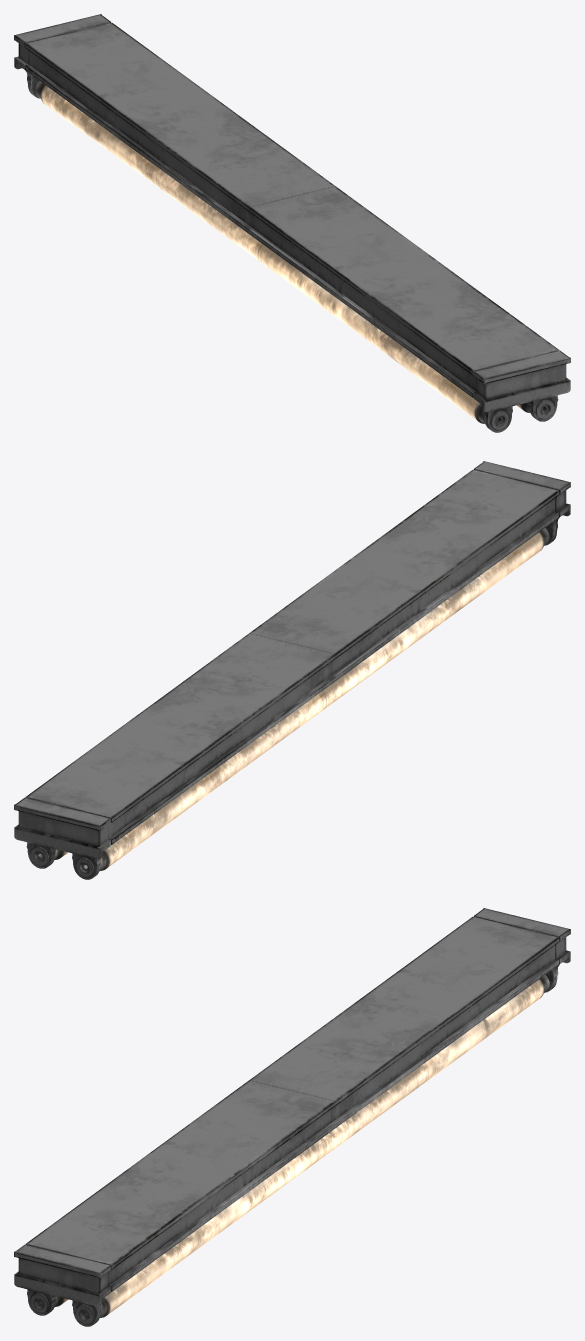
File: weathered_fluorescent_light_-_4096px2.glb
3 renders of one model, top to bottom at view 1: azimuth 30°, elevation 25°; view 2: azimuth 150°, elevation 25°; view 3: azimuth 330°, elevation 25°, orthographic.
Visible parts, largest first — view 1: Fluorescent_Light _Fluorescent_Light_MTL_0; view 2: Fluorescent_Light _Fluorescent_Light_MTL_0; view 3: Fluorescent_Light _Fluorescent_Light_MTL_0.
Part boxes in pixels (bbox=[...]): Fluorescent_Light _Fluorescent_Light_MTL_0: bbox=[14, 14, 570, 432]; Fluorescent_Light _Fluorescent_Light_MTL_0: bbox=[14, 461, 570, 879]; Fluorescent_Light _Fluorescent_Light_MTL_0: bbox=[14, 908, 570, 1326].
Size of the model in its own units: 0.1344 by 0.0921 by 1.26.
Materials: 1 (1 with a texture image).
